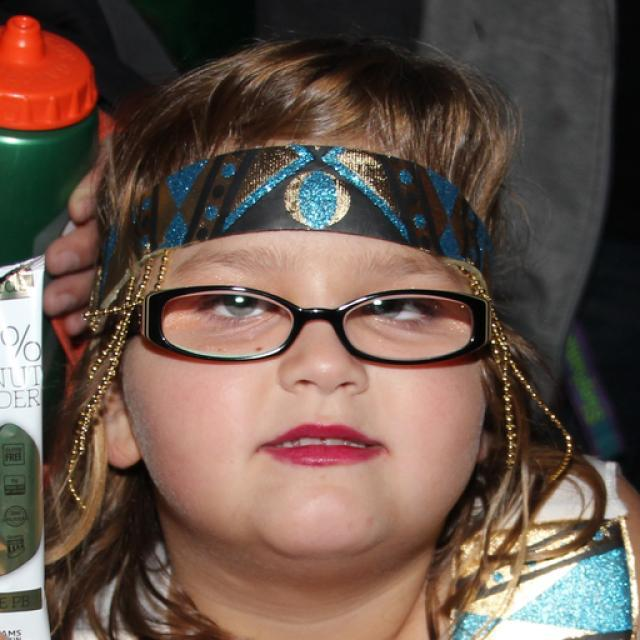disgust: (125, 140, 490, 555)
